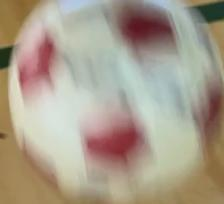Sports-Ball: (7, 3, 216, 194)
